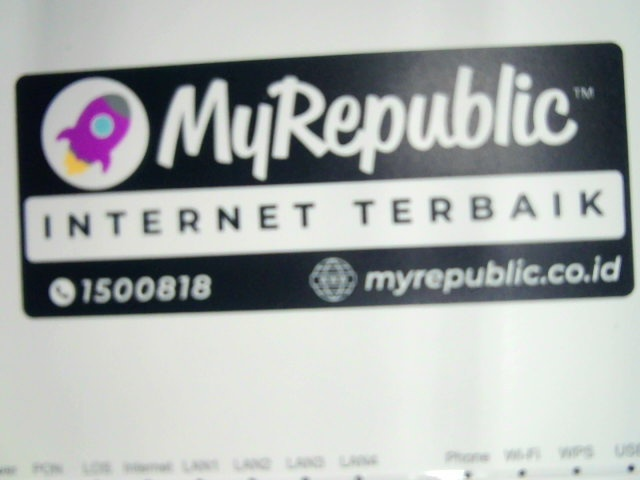BD_MyRepublic: (11, 53, 633, 305)
